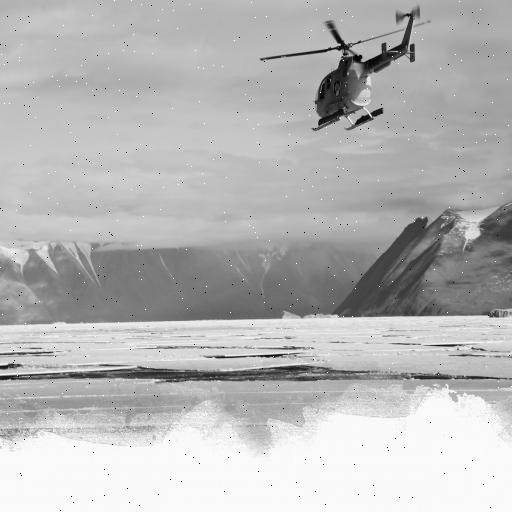helicopter: (256, 1, 439, 141)
